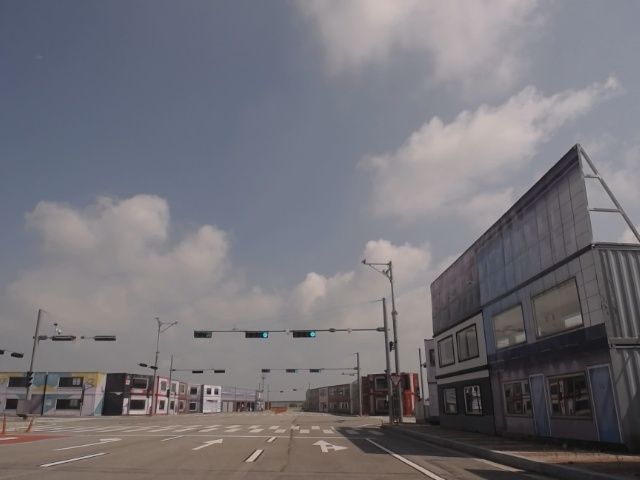straight_green_4: (293, 331, 317, 339), (245, 332, 269, 338)
